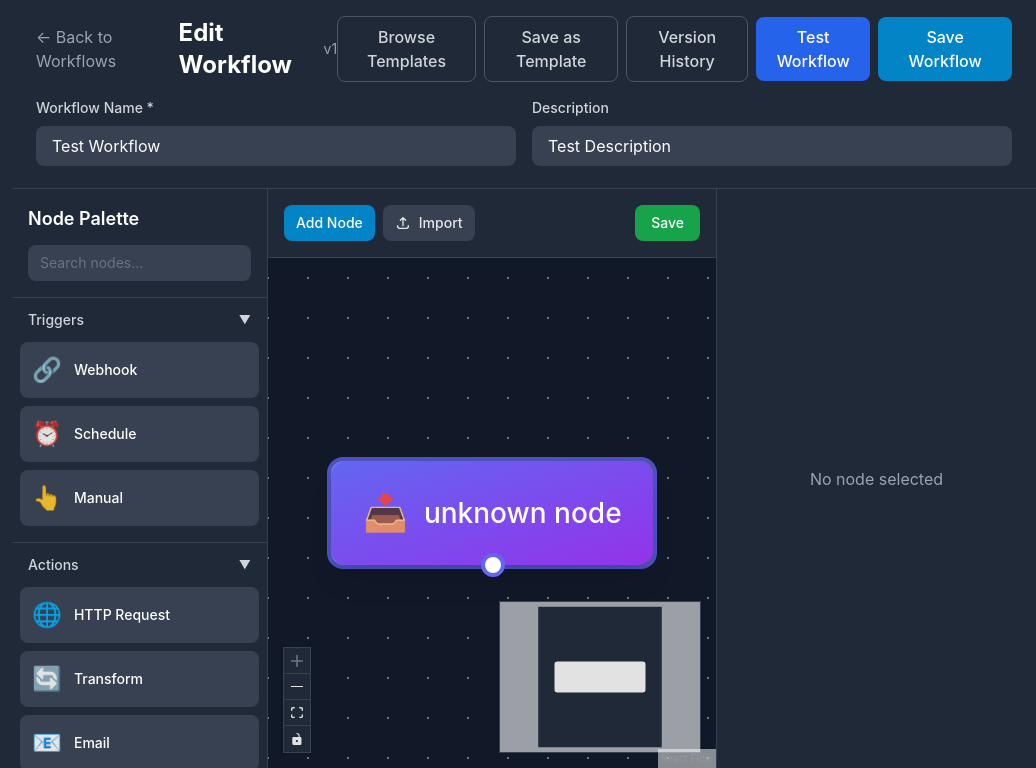
Scenario: WorkflowEditor Integration Tests › Save Workflow Button › should show success message when save succeeds
Check: the field with placeholder "Enter workflow name" is shown, box top-left (36, 126), bottom-right (516, 166)
// Click Save Workflow button
Click the button "Save Workflow".
click(945, 49)  # box top-left (878, 17), bottom-right (1012, 81)
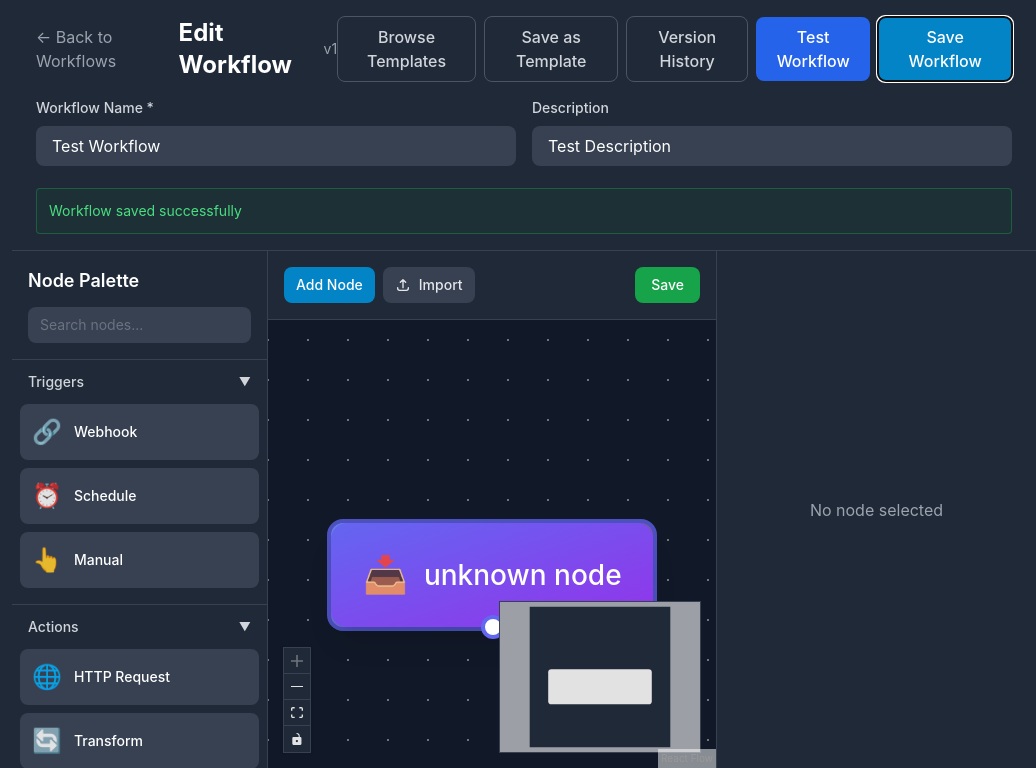
Check: the text "Workflow saved successfully" is shown, box top-left (36, 188), bottom-right (1012, 234)
